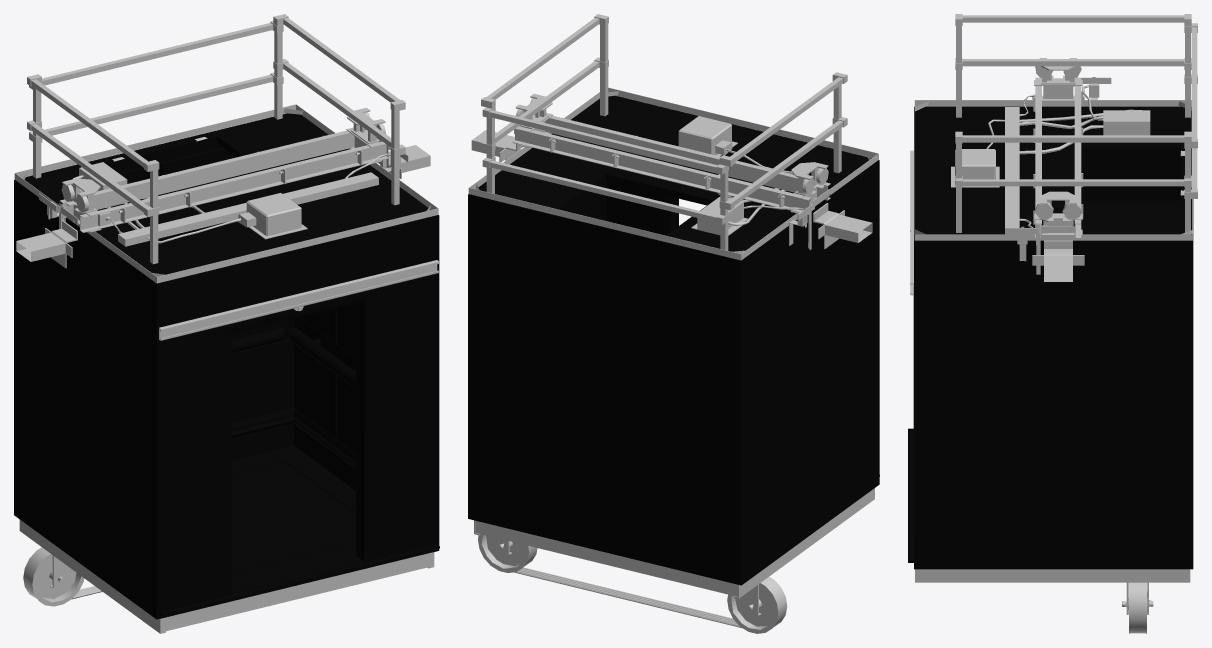
File: sm_elevatorBox_Lod1.fbx
3 renders of one model, left to right at view 1: azimuth 30°, elevation 25°; view 2: azimuth 150°, elevation 25°; view 3: azimuth 270°, elevation 25°, orthographic. The views are drawn at different scales.
Visible parts, largest first — view 1: Elevator; view 2: Elevator; view 3: Elevator.
Part boxes in pixels (<box>): Elevator: <box>14,14,439,633</box>; Elevator: <box>468,14,879,633</box>; Elevator: <box>908,14,1197,633</box>.
Size of the model in its own units: 324 by 391 by 208.
